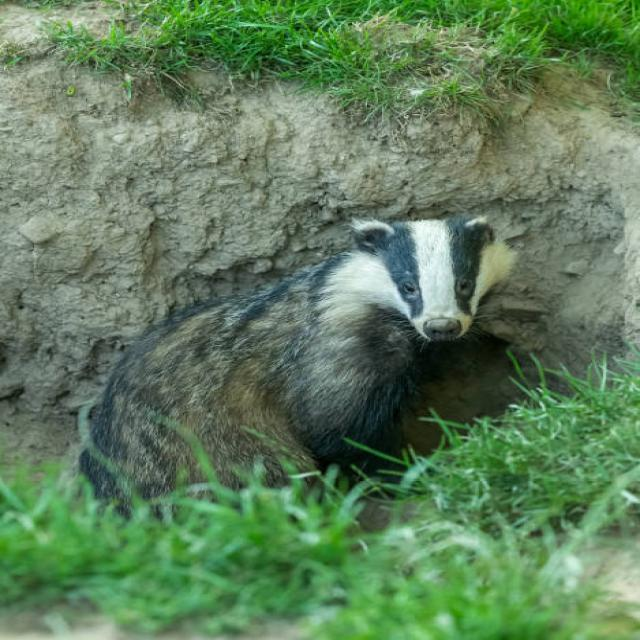Badger: (79, 220, 500, 533)
